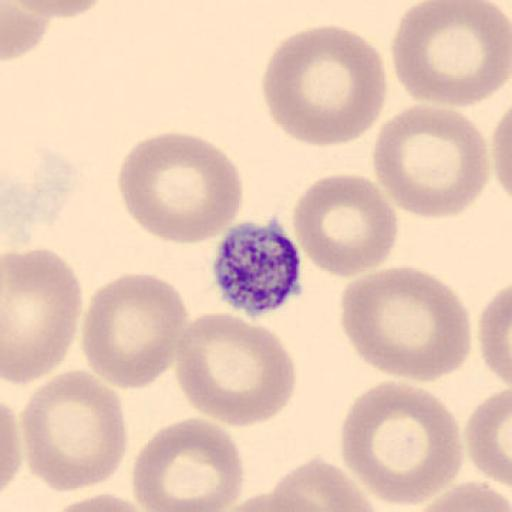Platelet: (209, 218, 306, 318)
RBC: (340, 379, 464, 508), (262, 23, 388, 148), (340, 264, 472, 382), (118, 129, 246, 245), (173, 310, 298, 428), (371, 103, 491, 221), (19, 367, 129, 493), (80, 271, 190, 391), (389, 1, 512, 108), (291, 172, 399, 278), (2, 245, 82, 387), (131, 416, 246, 512), (1, 134, 81, 252), (271, 455, 379, 512), (465, 386, 512, 487), (478, 283, 512, 387), (409, 479, 512, 512), (0, 1, 53, 61), (207, 491, 325, 512), (490, 105, 512, 203), (47, 492, 154, 512), (0, 397, 21, 495), (7, 0, 114, 18)
